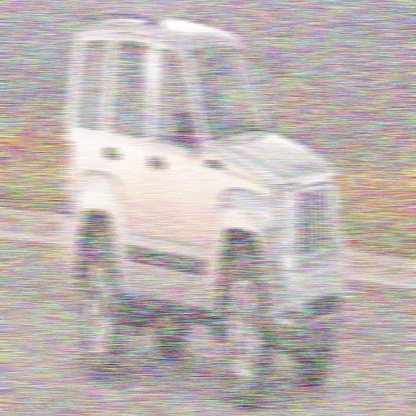Vehicle: (60, 16, 349, 413)
